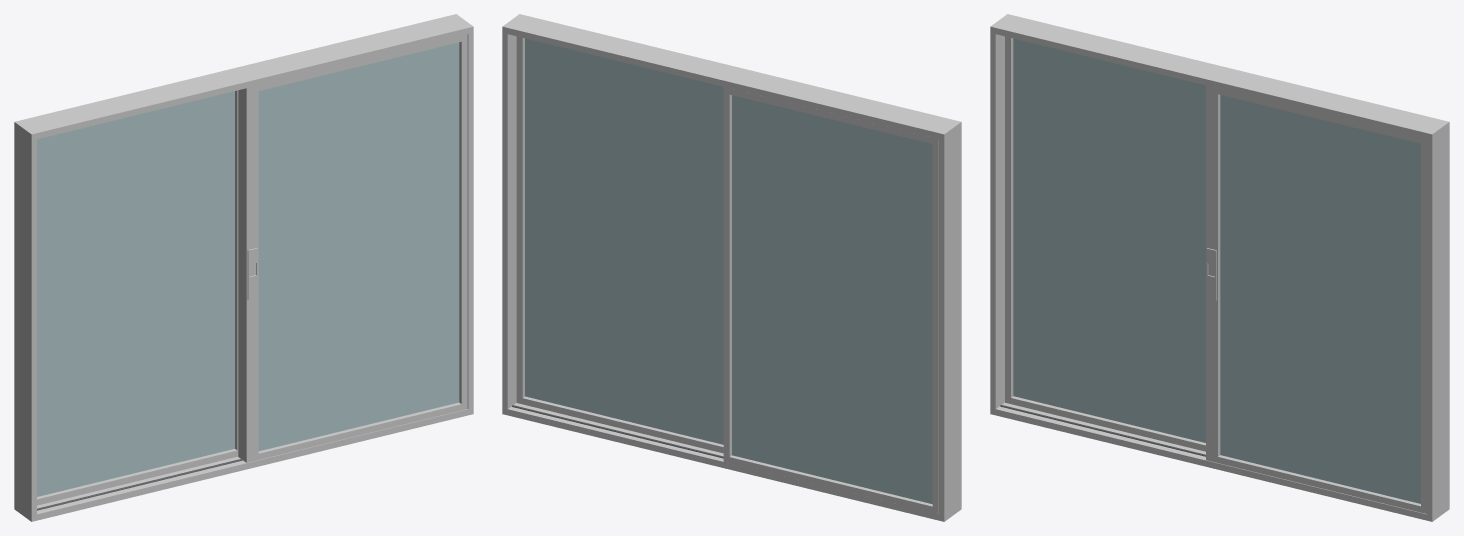
The model's file is window.glb.
The picture shows the model from 3 angles, left to right: view 1: azimuth 30°, elevation 25°; view 2: azimuth 150°, elevation 25°; view 3: azimuth 330°, elevation 25°; orthographic projection.
Visible parts, largest first — view 1: Mesh_Mesh_head_geo.001_lambert2SG.001; view 2: Mesh_Mesh_head_geo.001_lambert2SG.001; view 3: Mesh_Mesh_head_geo.001_lambert2SG.001.
Part boxes in pixels (x1,y1,x2,y2): Mesh_Mesh_head_geo.001_lambert2SG.001: (14, 14, 473, 521); Mesh_Mesh_head_geo.001_lambert2SG.001: (502, 14, 961, 521); Mesh_Mesh_head_geo.001_lambert2SG.001: (990, 14, 1449, 521).
Bounding box in the file's own units: 74 × 62 × 5.1.
